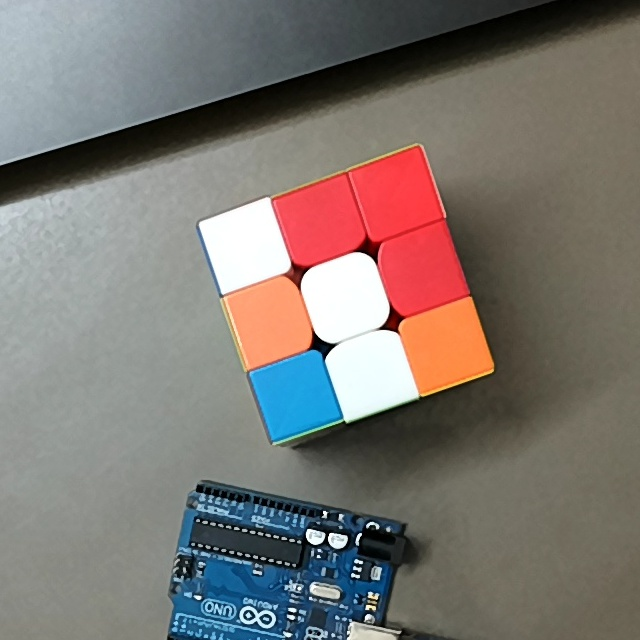tile: (315, 267, 377, 330), (287, 194, 351, 251), (341, 343, 400, 403), (215, 216, 272, 277), (394, 239, 449, 300), (268, 365, 324, 423), (367, 168, 427, 222), (245, 293, 300, 351), (418, 320, 474, 375)
